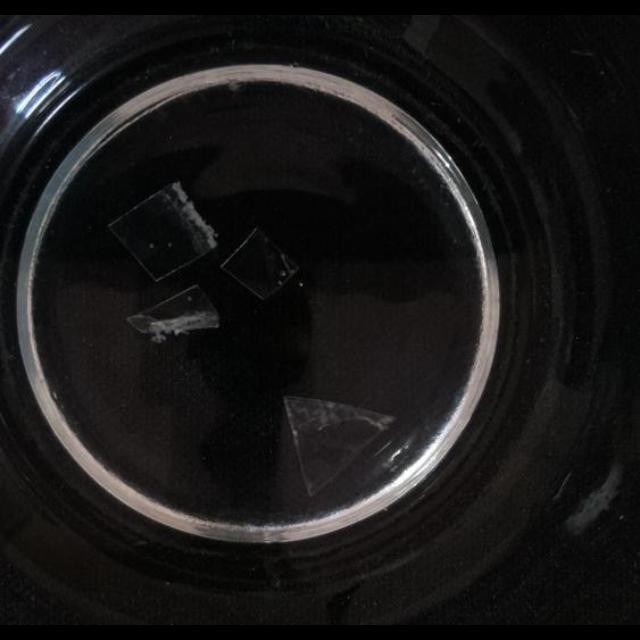Film: (282, 393, 400, 497), (110, 180, 218, 280), (218, 226, 300, 302), (124, 287, 220, 343)
